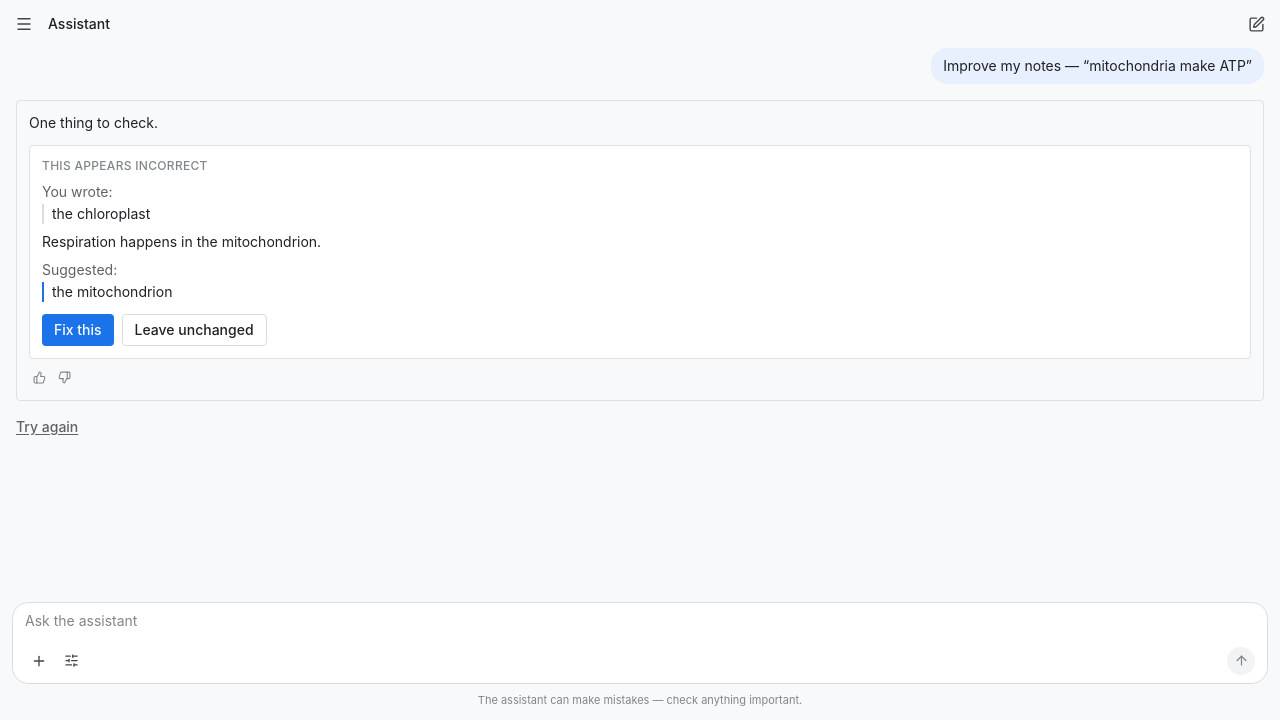
Test: AiSidebar › applying a flagged issue › shows why an edit could not be placed, and keeps the transcript
Expected: the text "One thing to check." is shown, [29,114,158,131]
Step 1. Click the button "Fix this" → (78, 330), box [42,314,114,346]
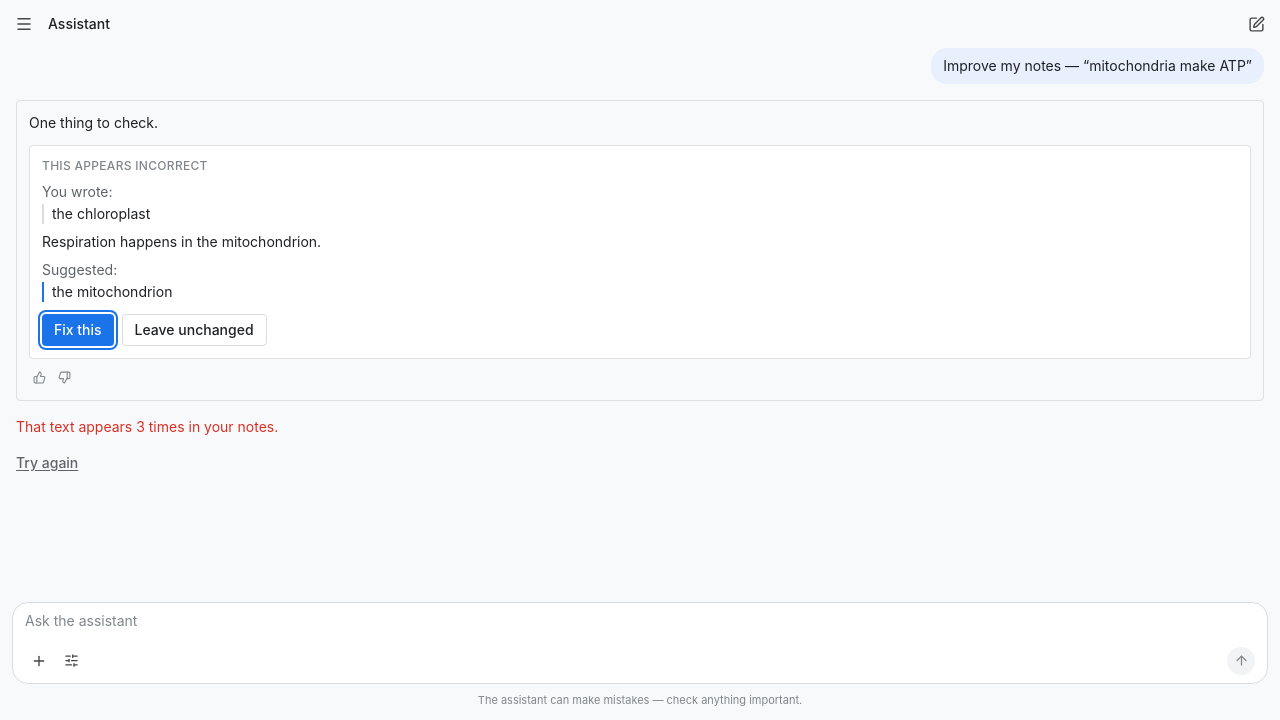
Expected: the text "One thing to check." is shown, [29,114,158,131]
Now the message reads "That text appears 3 times in your notes.", box [16,418,278,435]
